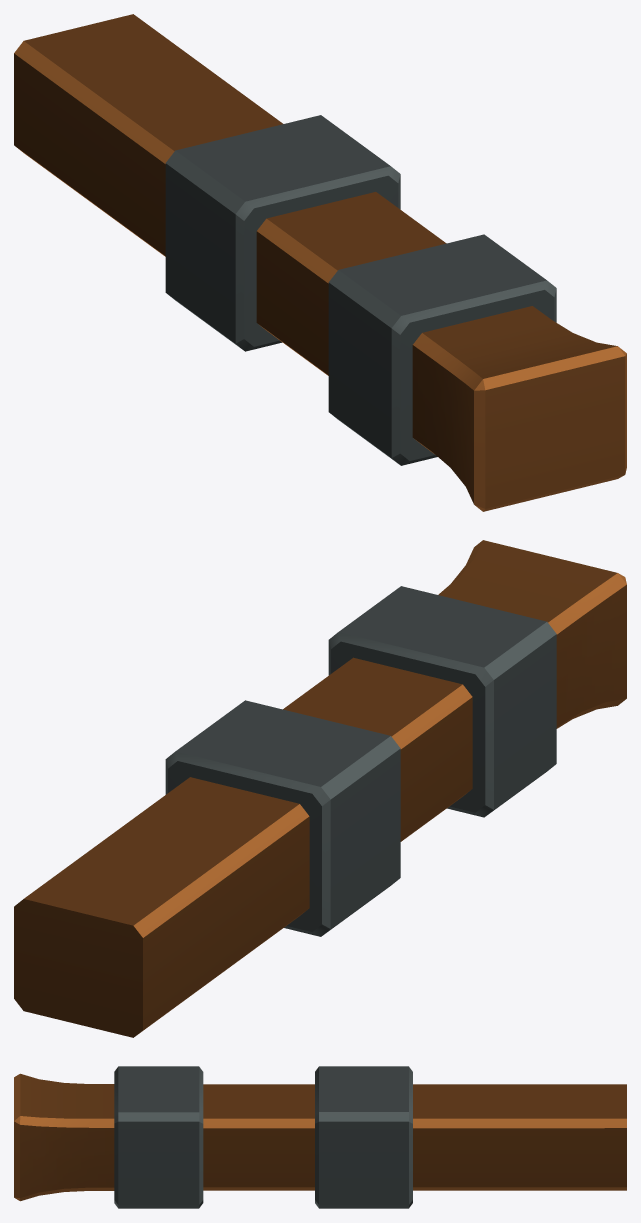
The model's file is Hook-4.fbx.
The picture shows the model from 3 angles, top to bottom: view 1: azimuth 30°, elevation 25°; view 2: azimuth 150°, elevation 25°; view 3: azimuth 270°, elevation 25°; orthographic projection. The views are drawn at different scales.
Parts seen in each view (by area): view 1: Hook-4; view 2: Hook-4; view 3: Hook-4.
Part boxes in pixels (bbox=[...]): Hook-4: bbox=[14, 14, 626, 511]; Hook-4: bbox=[14, 540, 626, 1037]; Hook-4: bbox=[14, 1066, 626, 1208].
Size of the model in its own units: 39.64 by 34.39 by 198.
